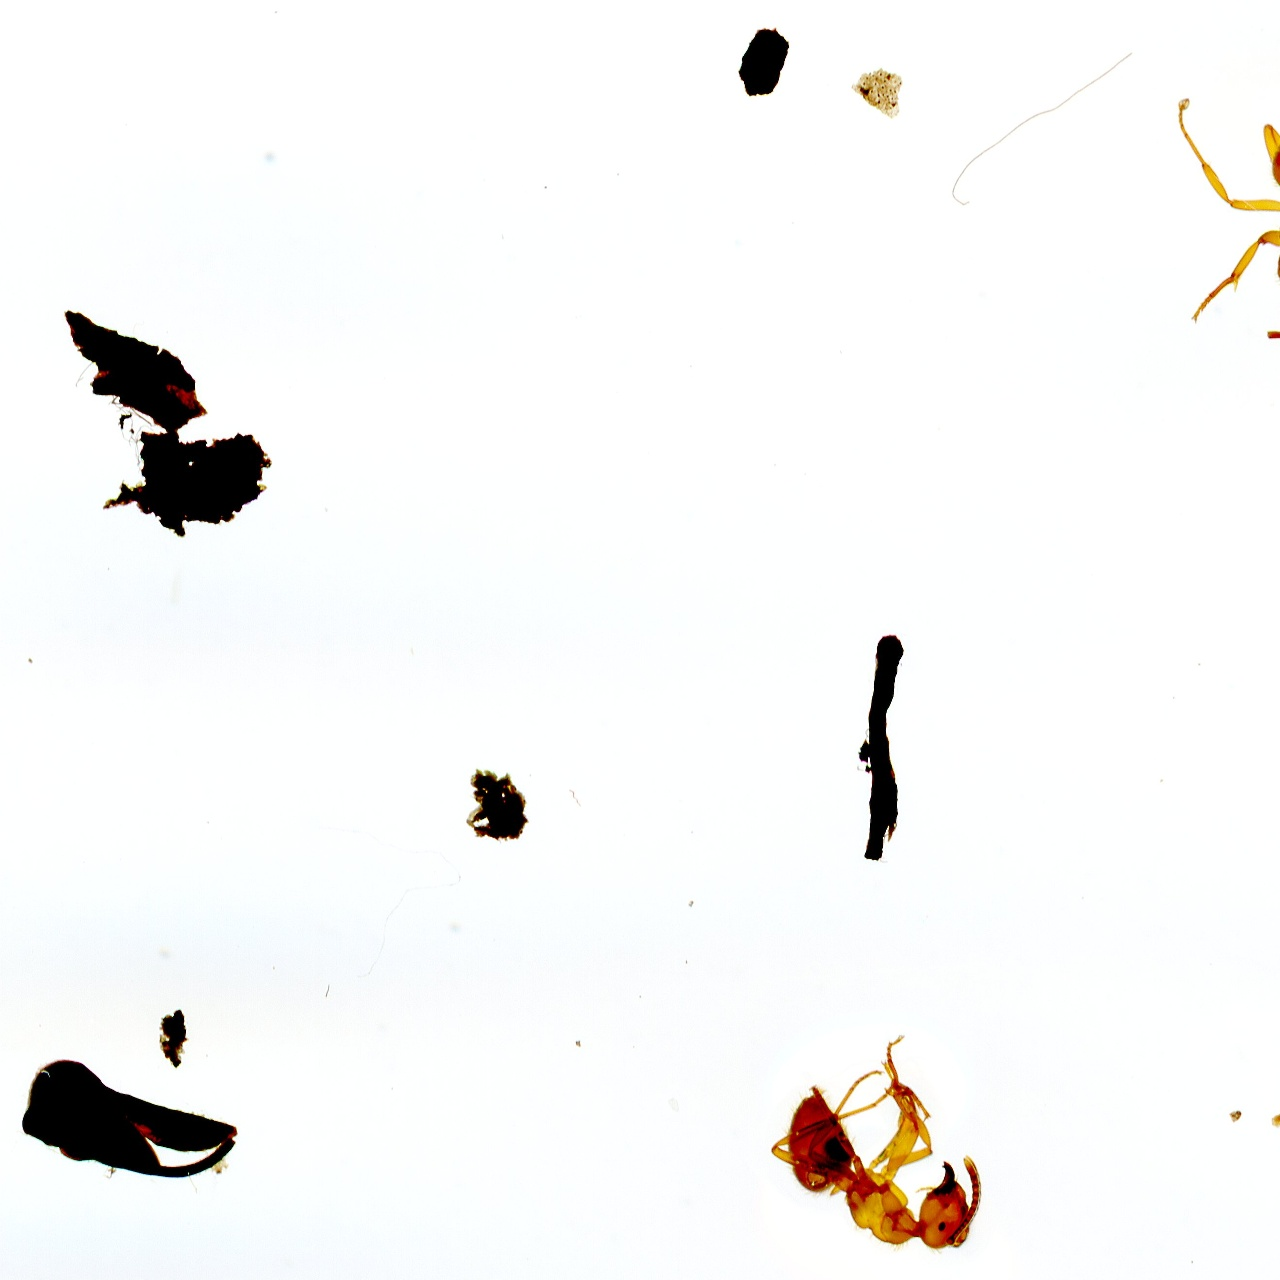arthropod: (764, 1024, 993, 1264), (1165, 69, 1280, 365)
